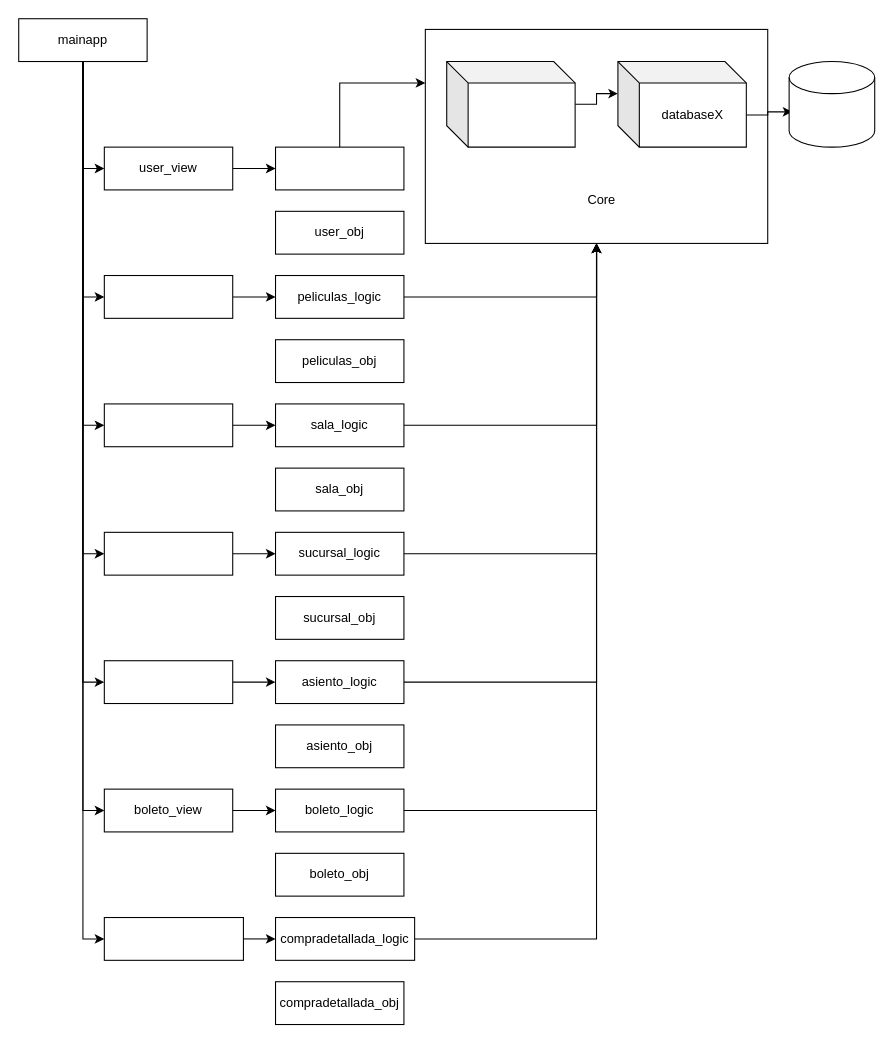
The diagram is 893 pixels wide and 1043 high, and some of its shapes have lost their labels. Here are the shapes that lost their labels. From the top down, the centre of each, then its label:
point (510, 103): logic
point (831, 103): mysql
point (339, 168): user_logic
point (168, 296): peliculas_view
point (168, 425): sala_view
point (168, 553): sucursal_view
point (168, 682): asiento_view
point (173, 938): compradetallada_view
